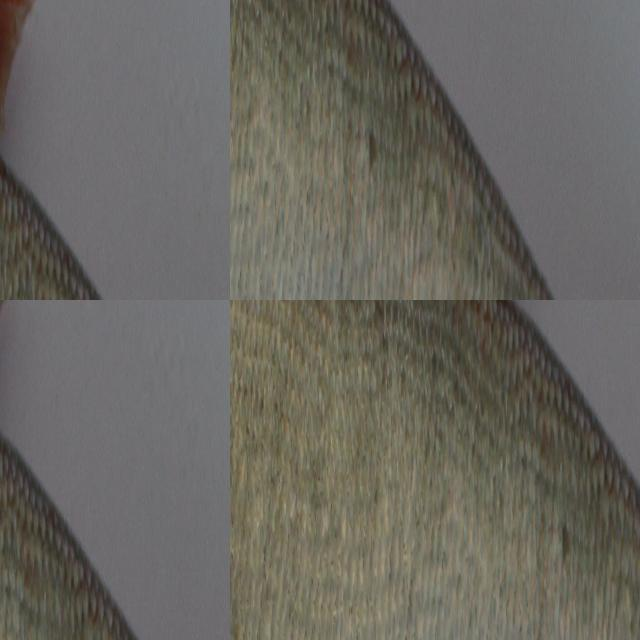fish: (230, 300, 640, 640)
